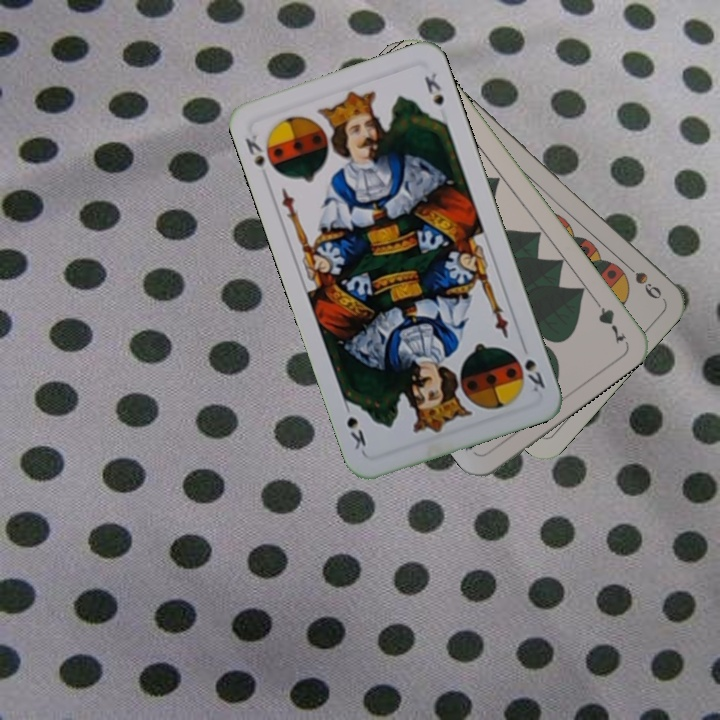G7: (588, 292, 630, 346)
S9: (617, 256, 665, 302)
SK: (517, 338, 548, 395), (241, 126, 268, 170)
